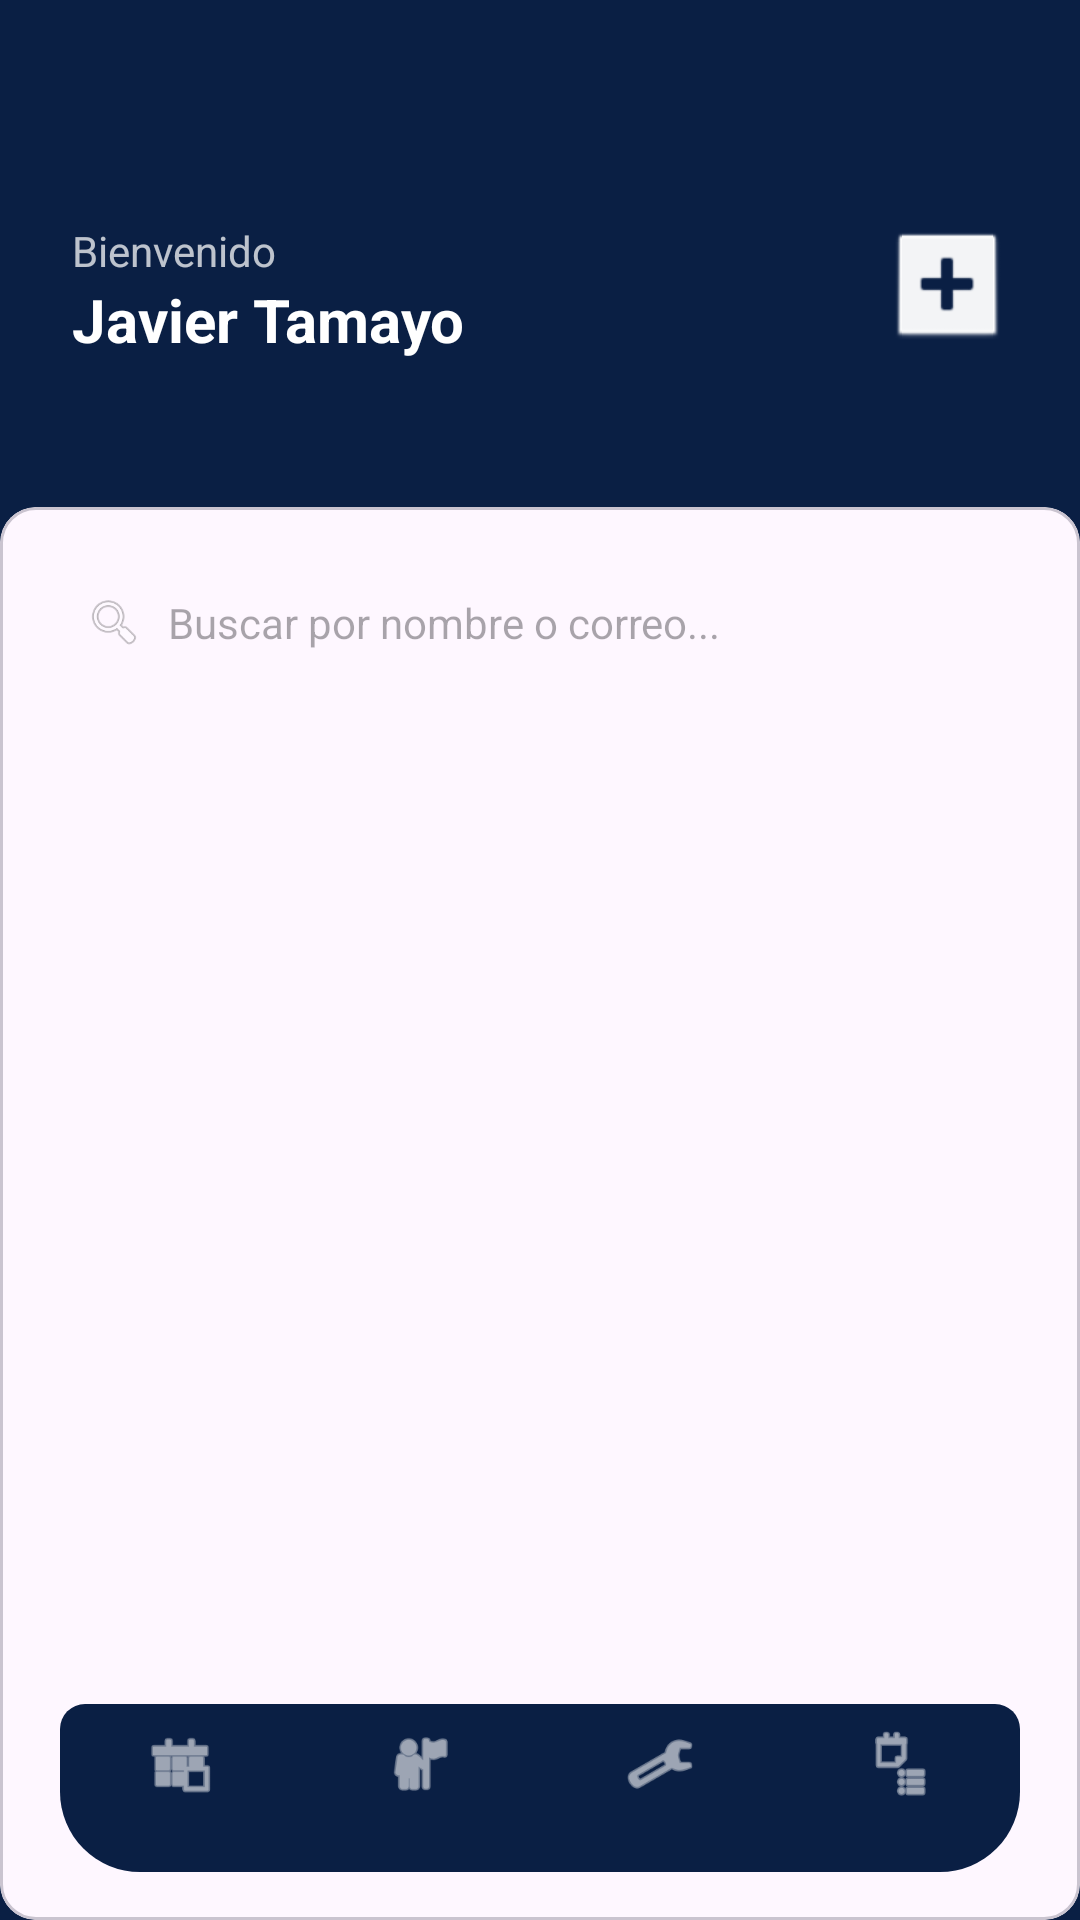

Icons on this 1080px×1920px Android screen, each with the point to tap as (x,y):
add: (947,285)
search: (114,622)
